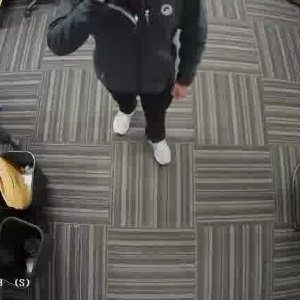person: (73, 0, 209, 173)
